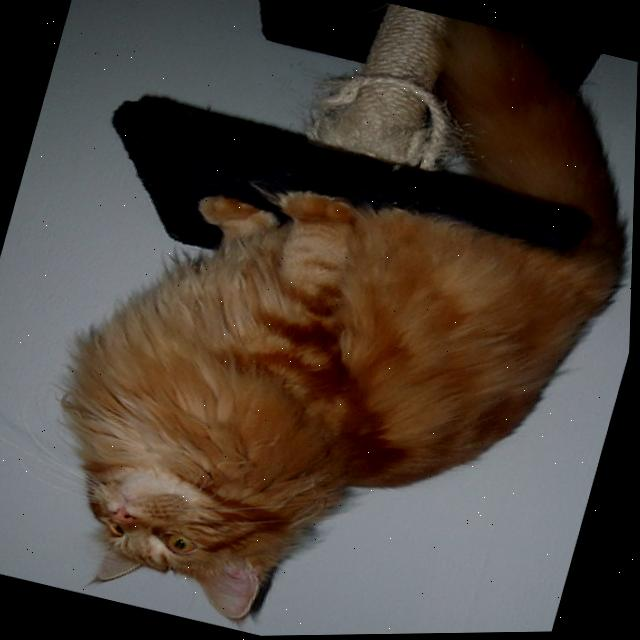Maine Coon: (1, 0, 640, 640)
